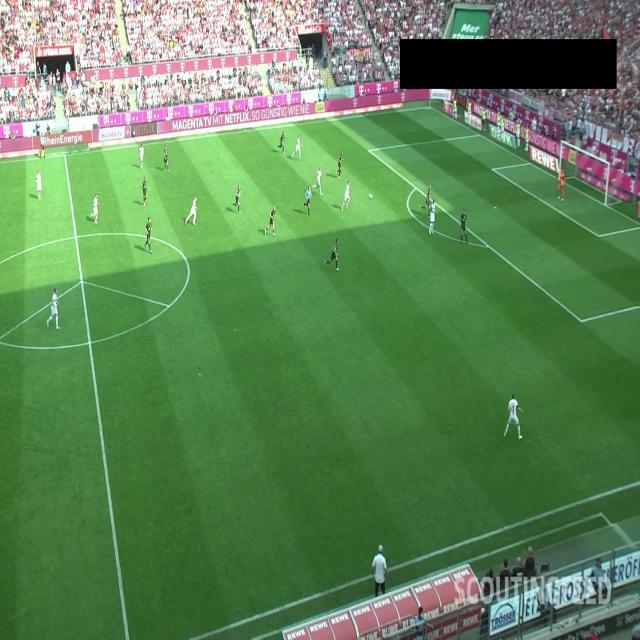ball: (368, 192, 373, 200)
goalkeeper: (558, 168, 565, 201)
player: (504, 392, 523, 440), (46, 288, 60, 330), (420, 186, 431, 218), (185, 197, 197, 226), (265, 205, 276, 236), (144, 216, 153, 253), (312, 167, 323, 197), (232, 183, 242, 215), (329, 238, 339, 270), (90, 193, 100, 225), (335, 149, 345, 179), (341, 180, 351, 210), (428, 199, 436, 235), (460, 209, 468, 244), (291, 135, 302, 160), (35, 170, 42, 200), (142, 176, 148, 207), (278, 131, 286, 152), (163, 144, 169, 172), (139, 143, 144, 169)
referee: (305, 185, 312, 216), (38, 133, 46, 158)
